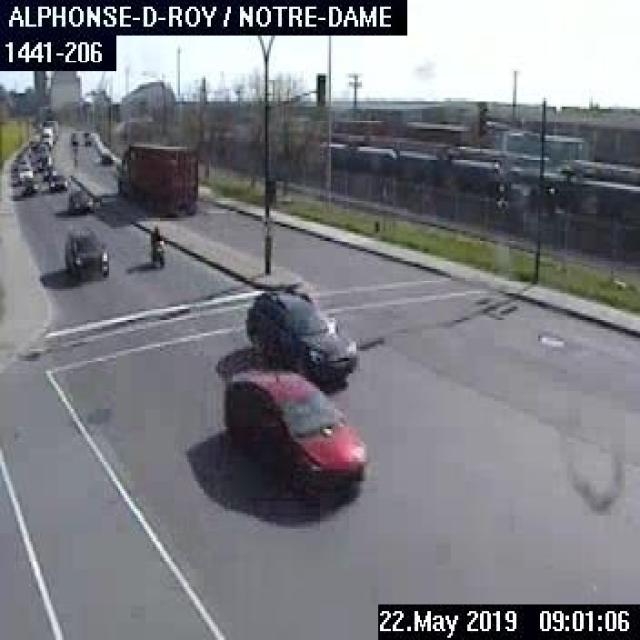vehicle: (218, 366, 372, 494), (237, 286, 361, 388), (115, 140, 196, 213), (60, 226, 105, 278), (148, 222, 166, 267), (14, 173, 49, 196), (40, 116, 58, 146), (71, 189, 93, 213), (47, 171, 69, 192), (16, 162, 34, 181), (36, 154, 54, 169), (100, 151, 113, 162)
